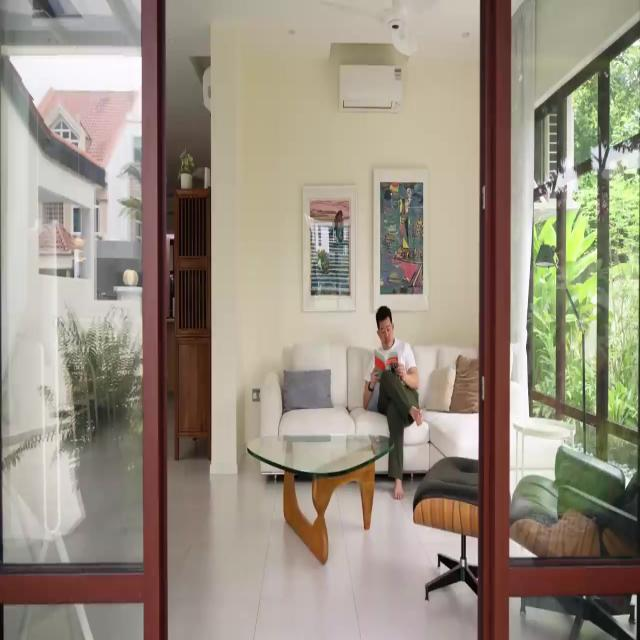door: (1, 0, 168, 638), (482, 0, 640, 640)
obstacle: (259, 342, 479, 467), (246, 432, 395, 564), (173, 186, 211, 460)
person: (362, 305, 422, 499)
